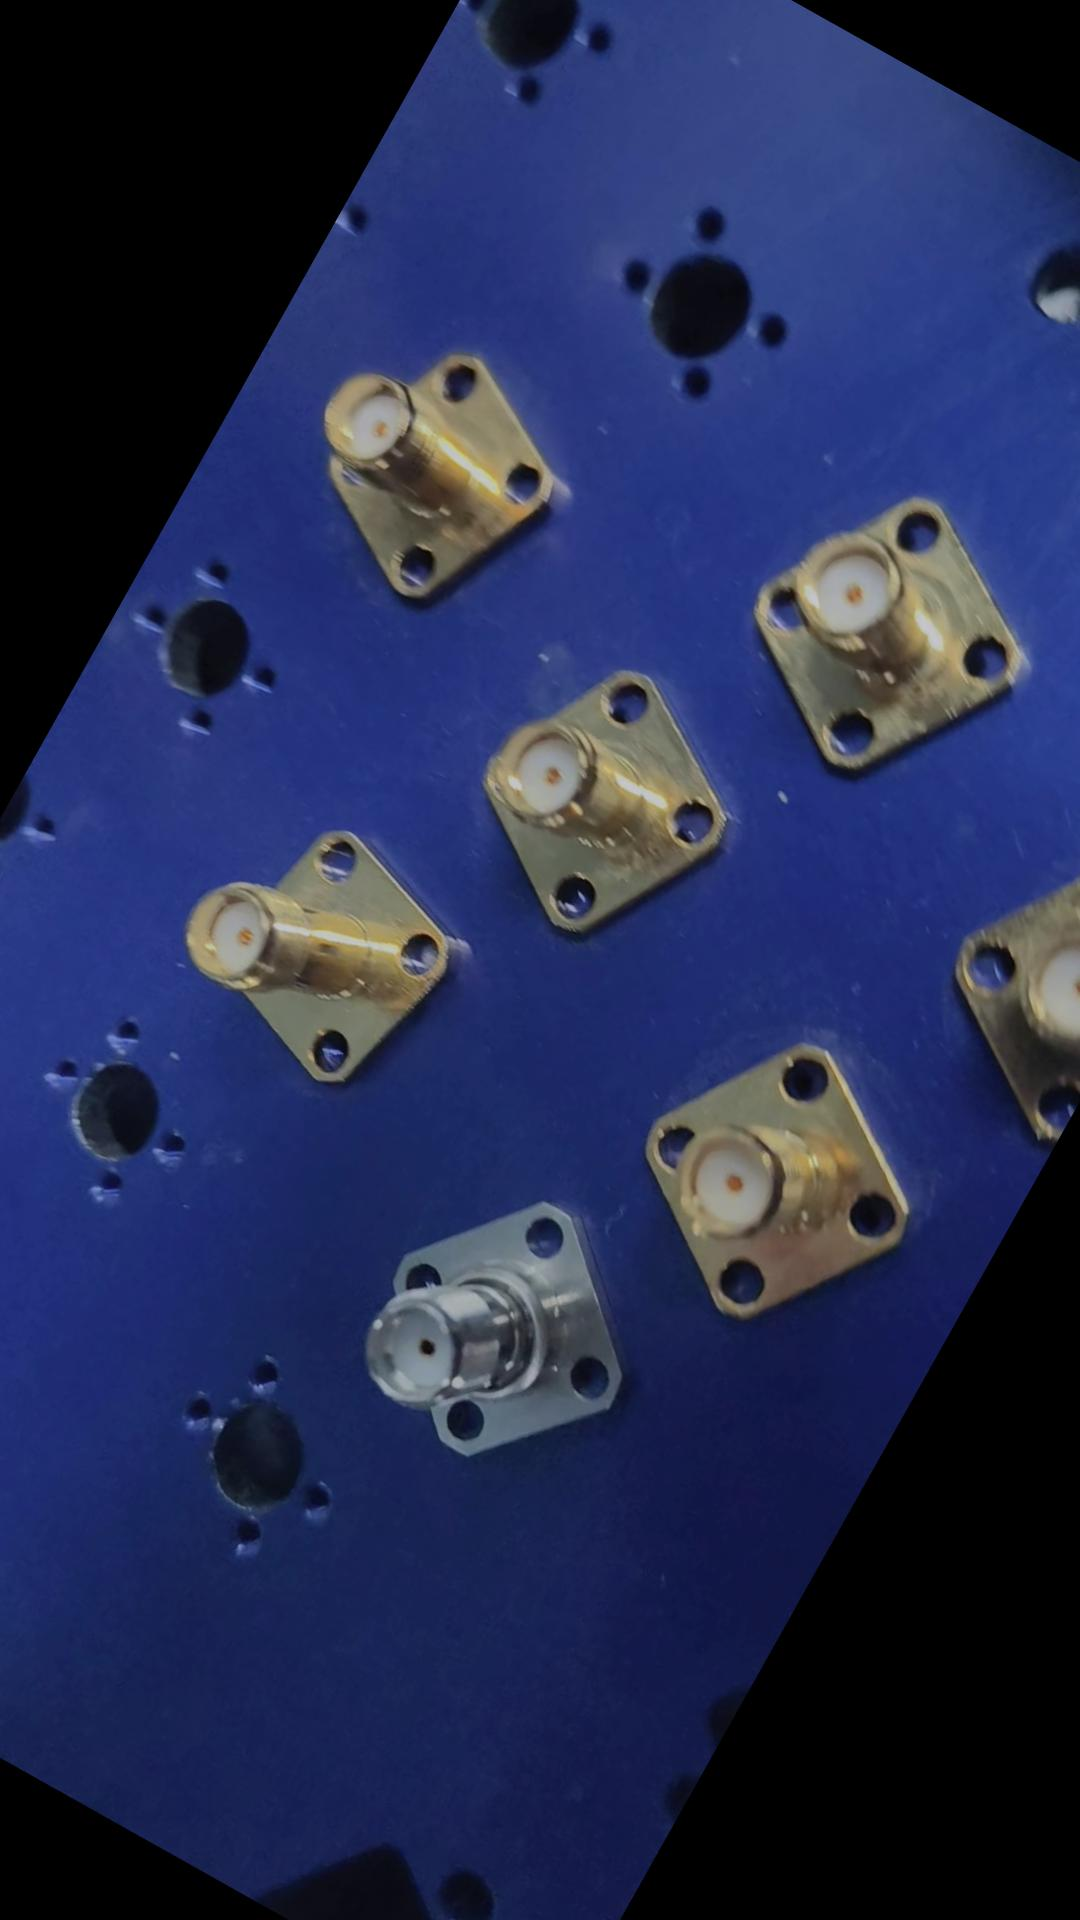SMA: (579, 976, 967, 1370), (314, 1131, 688, 1516), (700, 444, 1065, 823), (423, 618, 765, 976), (258, 303, 597, 649), (138, 781, 483, 1116)
